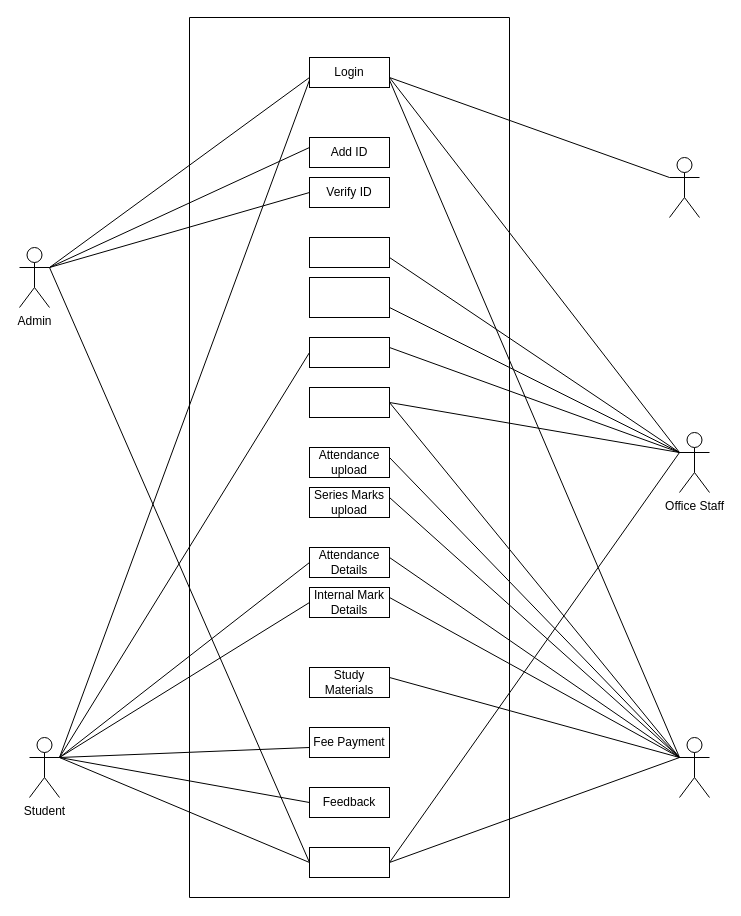
This 741x916 diagram has some shape labels left out. The shapes that lost their labels are listed below. From the top down, each one's centre as x and y in pixels, then its label:
(x=684, y=187): New User
(x=349, y=252): Add student
(x=349, y=297): Update student details
(x=349, y=352): Fee Details
(x=349, y=402): Notification
(x=694, y=767): Teacher
(x=349, y=862): Logout
